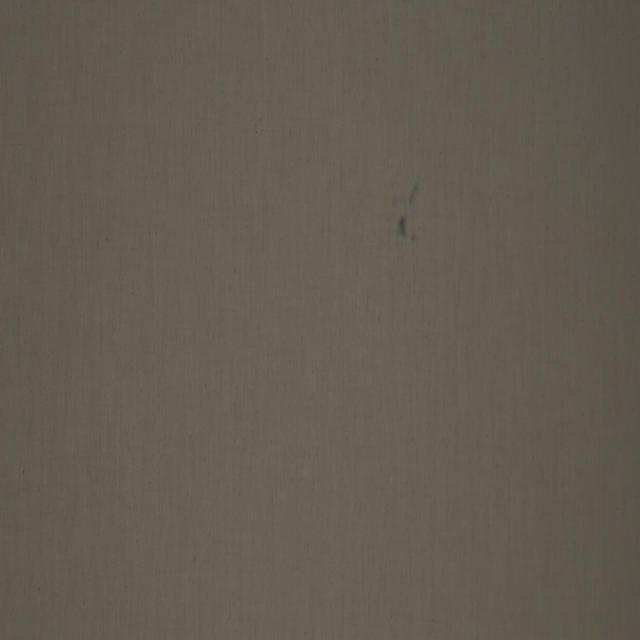dirty: (391, 185, 422, 245)
